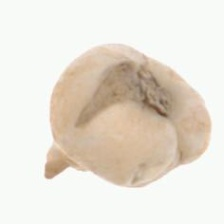L3: (43, 136, 74, 179)
L4: (45, 43, 212, 188)
